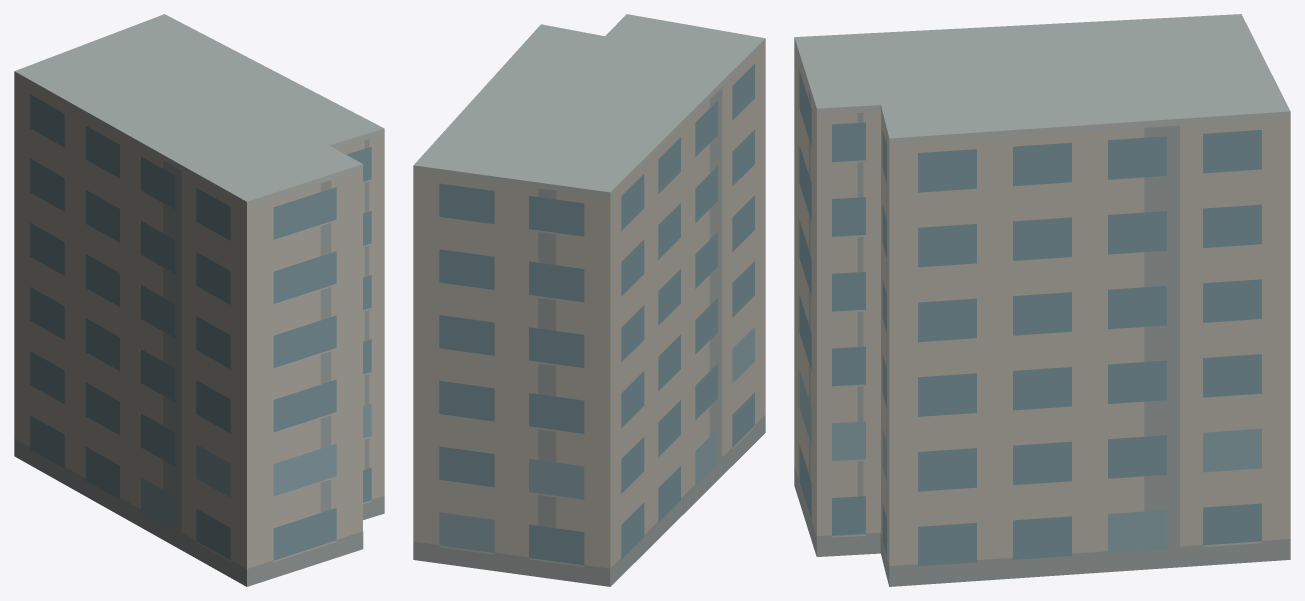
File: survey-upis-32822448.glb
3 views of the same model, side by side, from view 1: azimuth 30°, elevation 25°; view 2: azimuth 150°, elevation 25°; view 3: azimuth 270°, elevation 25° (orthographic). The views are drawn at different scales.
Parts seen in each view (by area): view 1: survey-upis-32822448.tmp; view 2: survey-upis-32822448.tmp; view 3: survey-upis-32822448.tmp.
Part boxes in pixels (<box>): survey-upis-32822448.tmp: <box>14,14,384,586</box>; survey-upis-32822448.tmp: <box>413,14,765,586</box>; survey-upis-32822448.tmp: <box>794,14,1290,586</box>.
Size of the model in its own units: 9.77 by 16.4 by 16.46.
